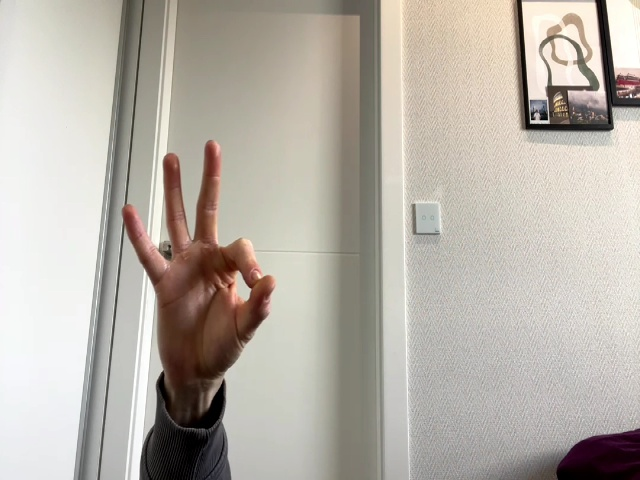O: (122, 141, 275, 372)
